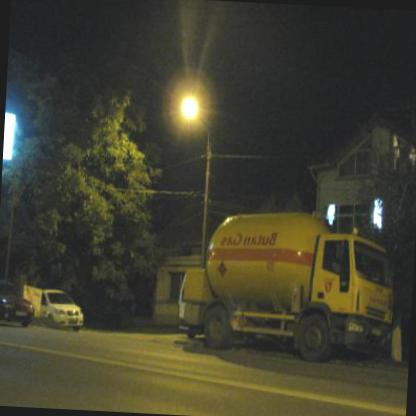car: (13, 290, 88, 330), (0, 282, 35, 332)
